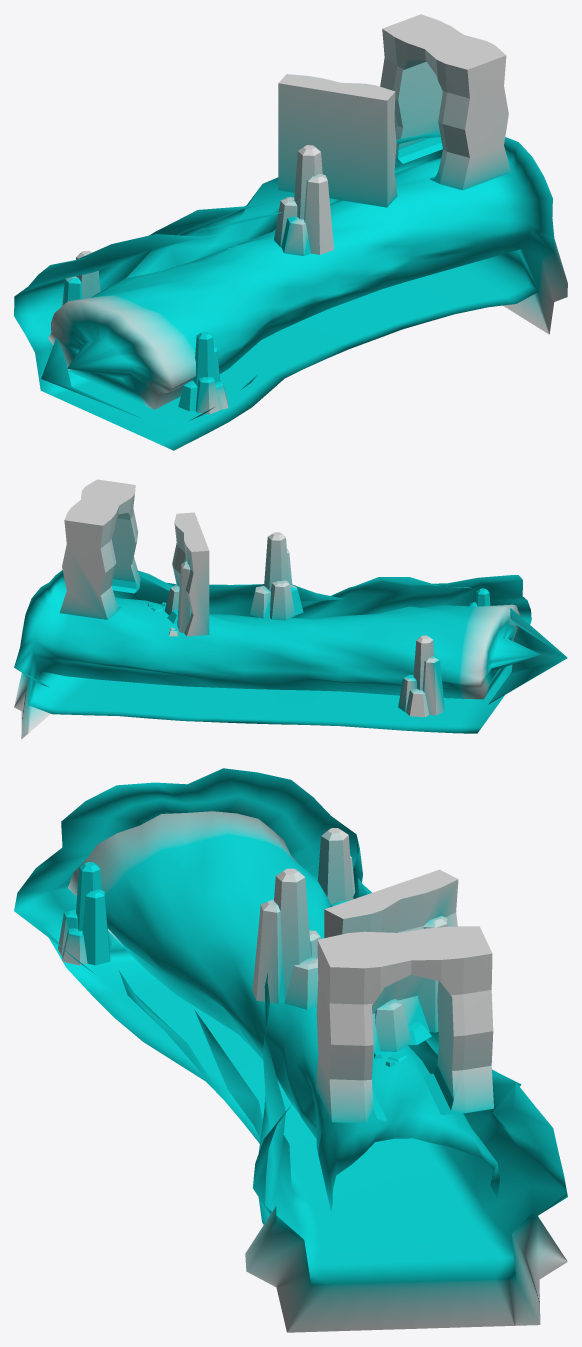
The model's file is cave-trench-wall.glb.
3 renders of one model, top to bottom at view 1: azimuth 30°, elevation 25°; view 2: azimuth 150°, elevation 25°; view 3: azimuth 270°, elevation 25°, orthographic. The views are drawn at different scales.
Visible parts, largest first — view 1: shell, dressing; view 2: shell, dressing; view 3: shell, dressing.
Boxes of the visible parts, x1=… form: shell: x1=14, y1=132, x2=567, y2=450; dressing: x1=62, y1=14, x2=510, y2=414; shell: x1=14, y1=570, x2=567, y2=739; dressing: x1=59, y1=479, x2=490, y2=717; shell: x1=14, y1=768, x2=567, y2=1332; dressing: x1=58, y1=828, x2=493, y2=1123.
Bounding box in the file's own units: 39.94 × 18.65 × 26.81.
